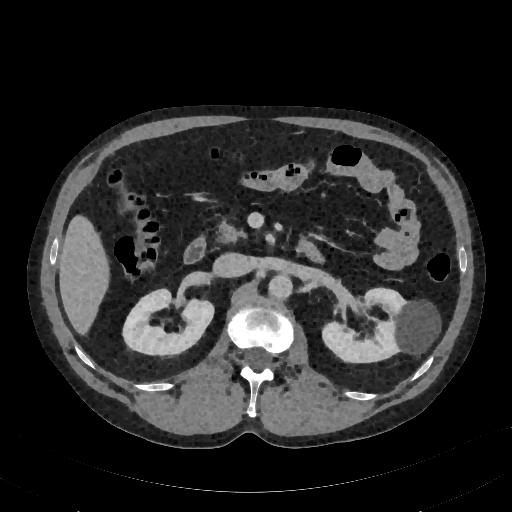Lesion: (393, 294, 446, 360)
